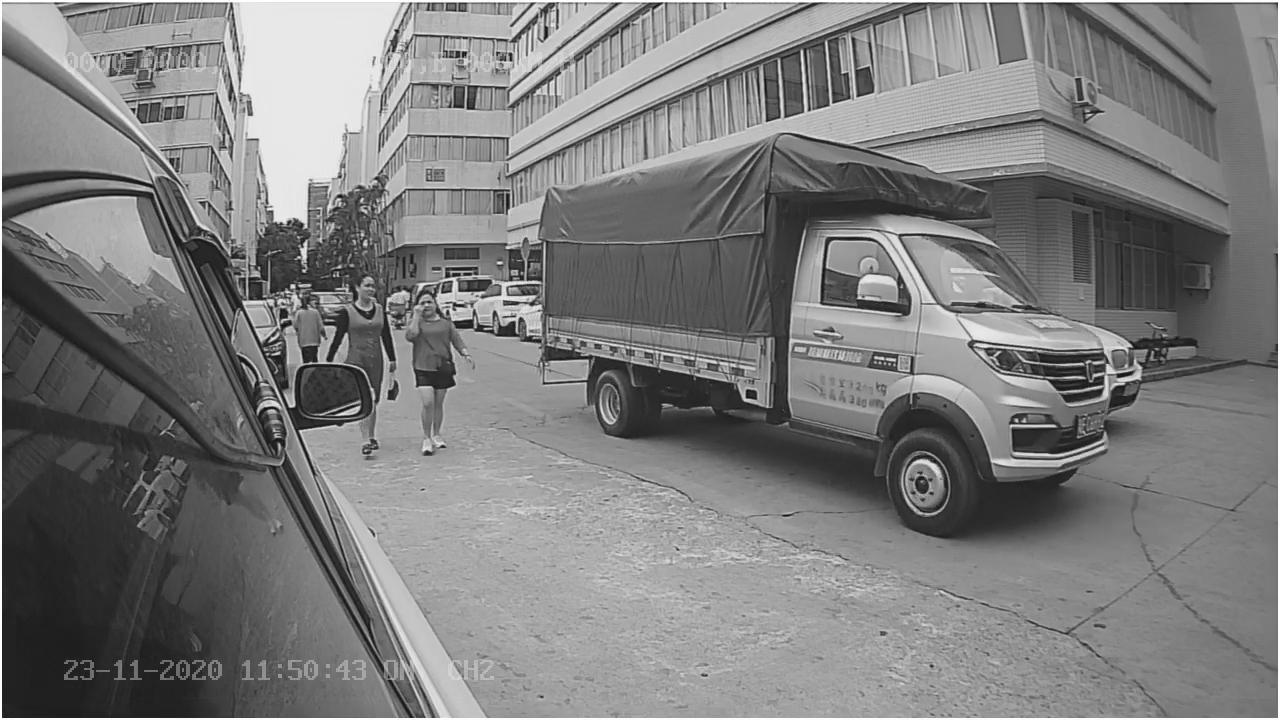person: (406, 286, 473, 454)
